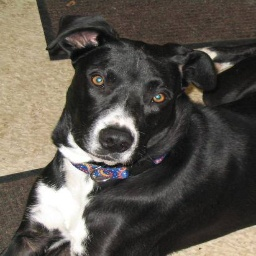dog: (7, 16, 256, 253)
